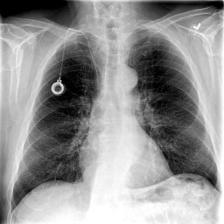normal: (7, 25, 222, 213)
